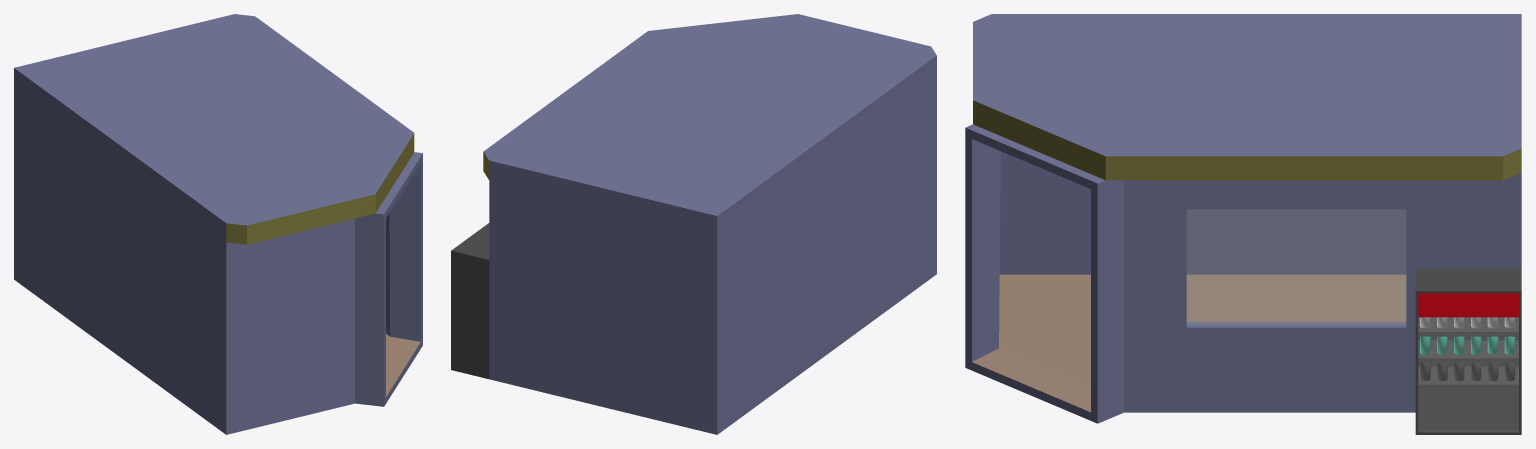
The model's file is photostore.glb.
3 views of the same model, side by side, from view 1: azimuth 30°, elevation 25°; view 2: azimuth 150°, elevation 25°; view 3: azimuth 270°, elevation 25° (orthographic). The views are drawn at different scales.
Parts seen in each view (by area): view 1: Cube; view 2: Cube, Cube.003; view 3: Cube, Plane.001, Cube.003, Plane.003, Cube.007, Cylinder.001, Cylinder, Cylinder.002.
Boxes of the visible parts, bbox=[...] form: Cube: bbox=[14, 14, 422, 434]; Cube: bbox=[483, 14, 936, 434]; Cube.003: bbox=[451, 223, 489, 379]; Cube: bbox=[965, 14, 1521, 423]; Plane.001: bbox=[1187, 209, 1405, 323]; Cube.003: bbox=[1415, 268, 1521, 434]; Plane.003: bbox=[1418, 317, 1518, 430]; Cube.007: bbox=[1418, 293, 1518, 317]; Cylinder.001: bbox=[1420, 336, 1515, 354]; Cylinder: bbox=[1420, 363, 1515, 381]; Cylinder.002: bbox=[1420, 317, 1515, 328].
Bounding box in the file's own units: 14 × 11 × 21.
